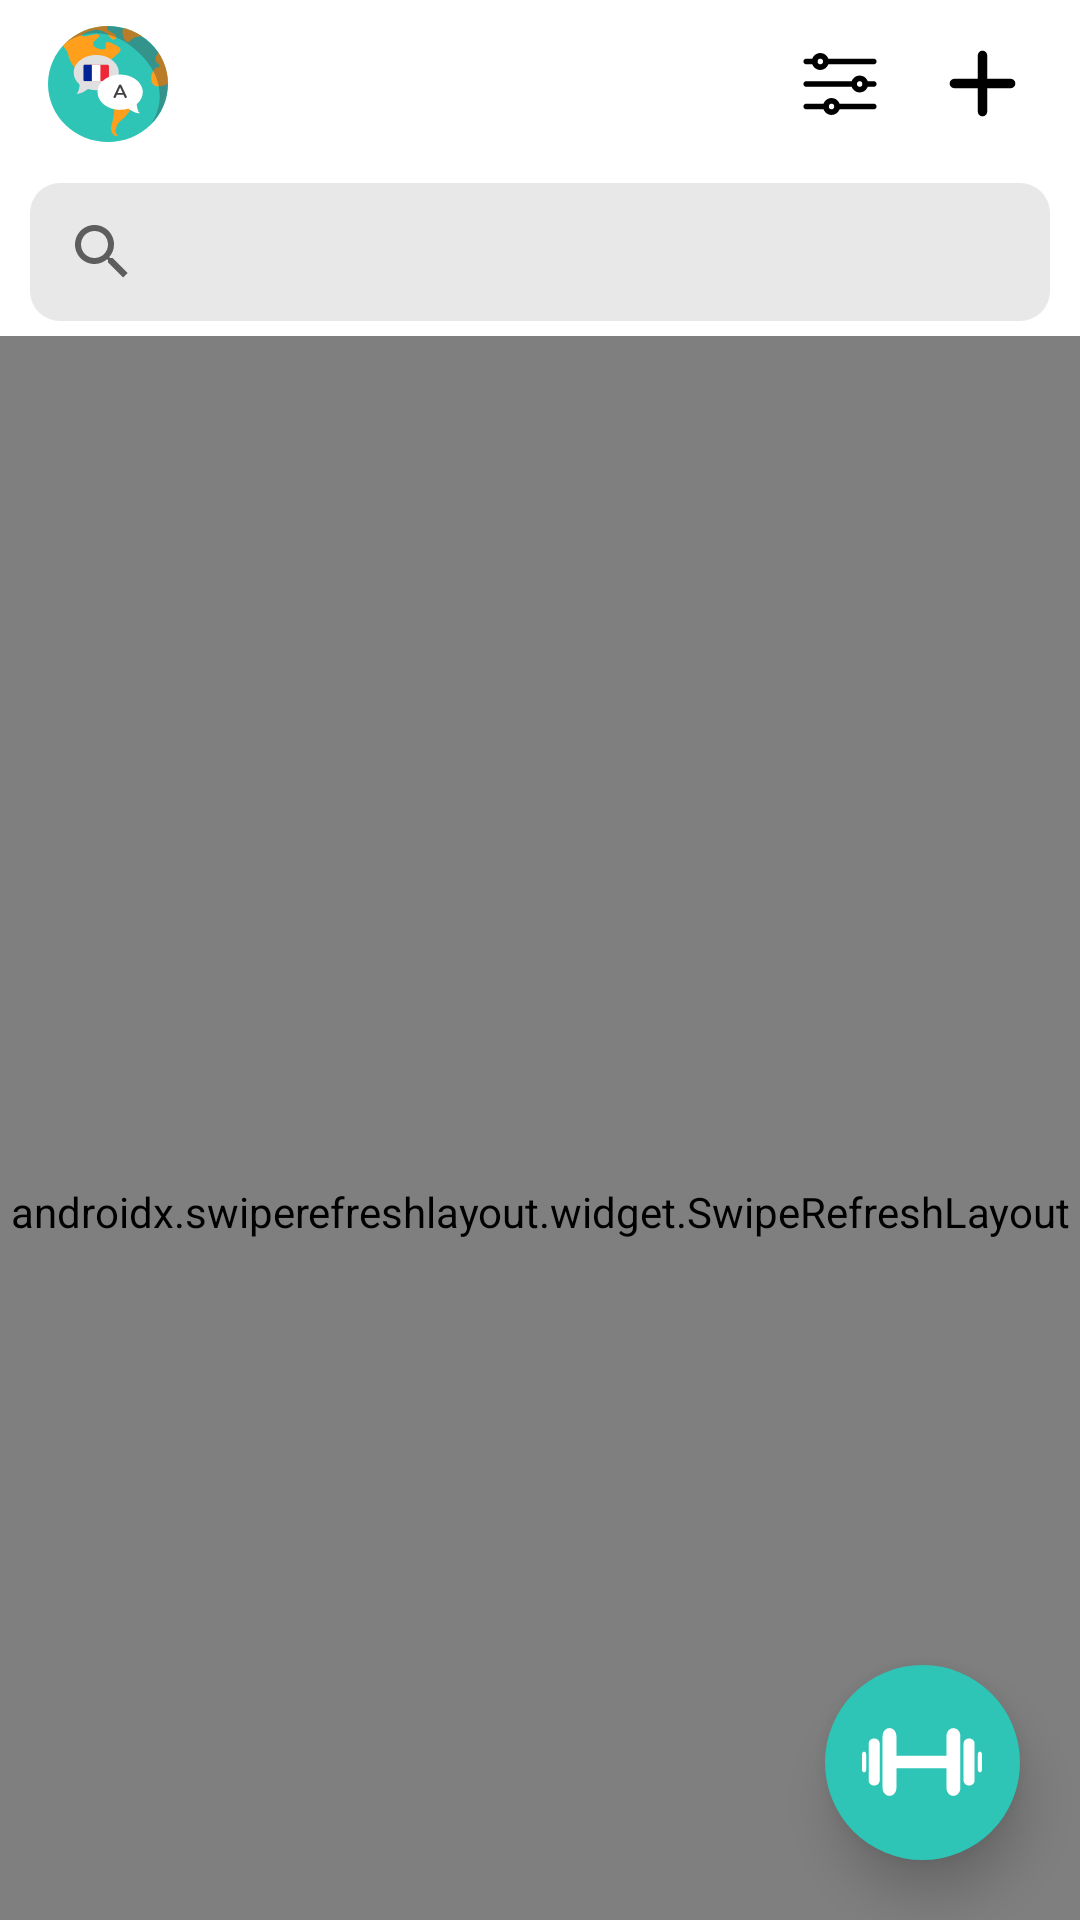

Icons on this 1080 x 1920 Android screen, each with the point to tap as point (x, y):
dumbbell: point (922, 1762)
filter: point (840, 84)
plus: point (982, 83)
